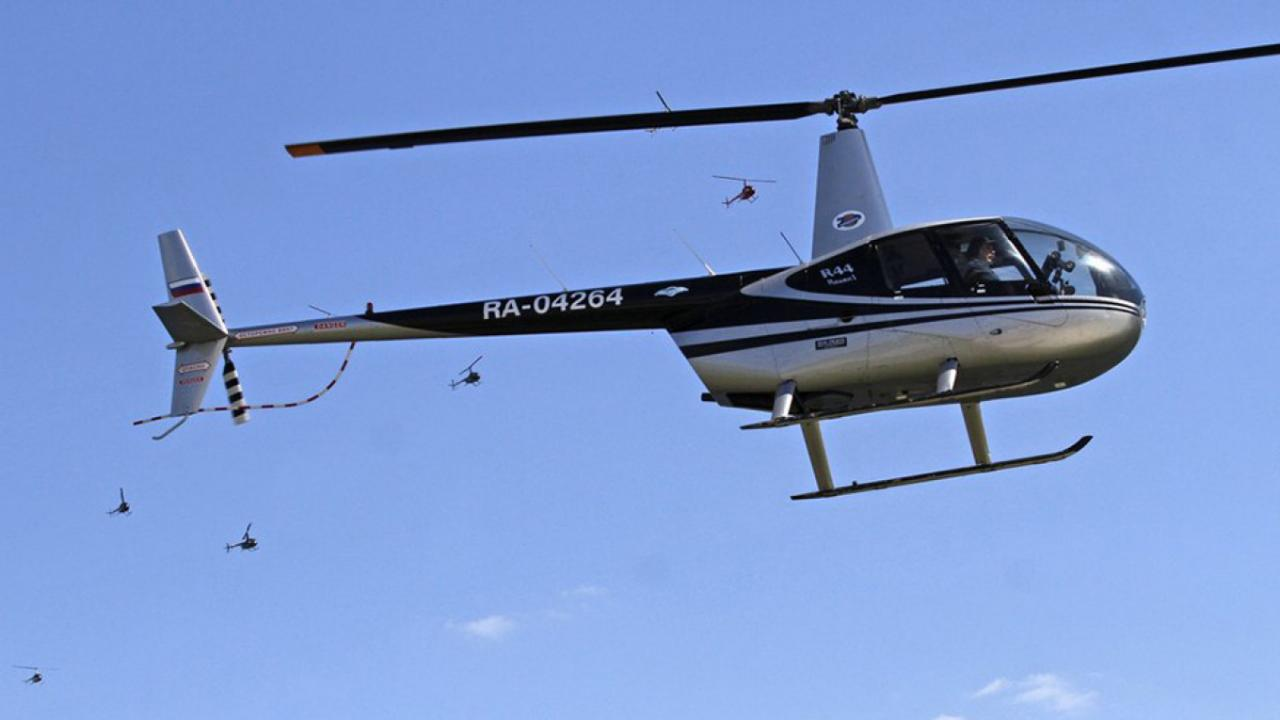Helicopter: (117, 25, 1280, 504), (701, 166, 784, 215), (445, 345, 493, 402), (218, 514, 268, 564), (5, 658, 64, 696), (96, 481, 144, 526)
